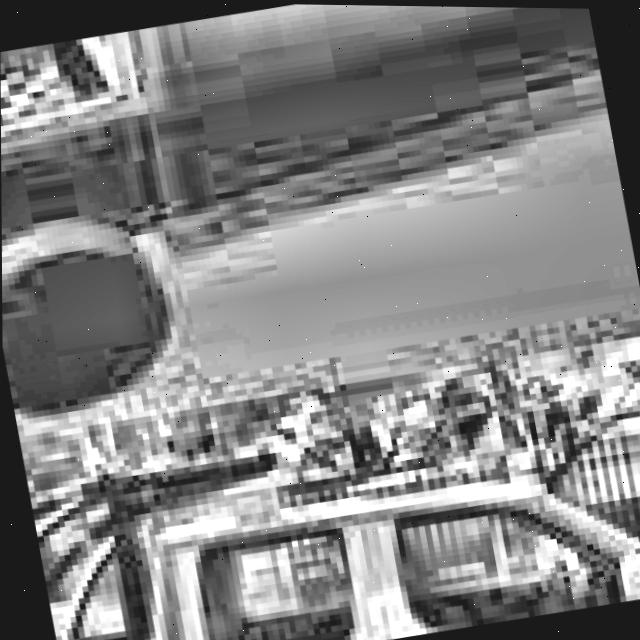light_vehicle: (19, 336, 640, 640)
